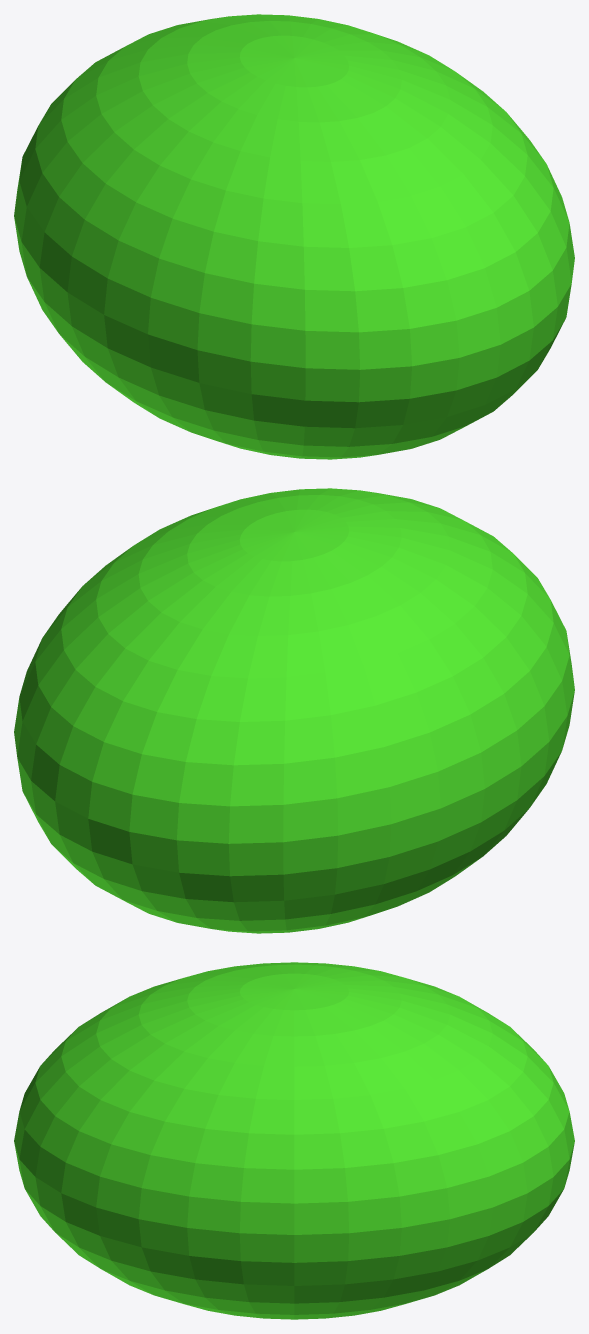
Rendered from Enemy1.fbx.
3 renders of one model, top to bottom at view 1: azimuth 30°, elevation 25°; view 2: azimuth 150°, elevation 25°; view 3: azimuth 270°, elevation 25°, orthographic. The views are drawn at different scales.
Parts seen in each view (by area): view 1: Sphere; view 2: Sphere; view 3: Sphere.
Boxes of the visible parts, x1,y1,x2,y2 form: Sphere: (14,14,574,459); Sphere: (14,488,574,933); Sphere: (14,962,574,1319).
Bounding box in the file's own units: 200 × 151 × 252.
